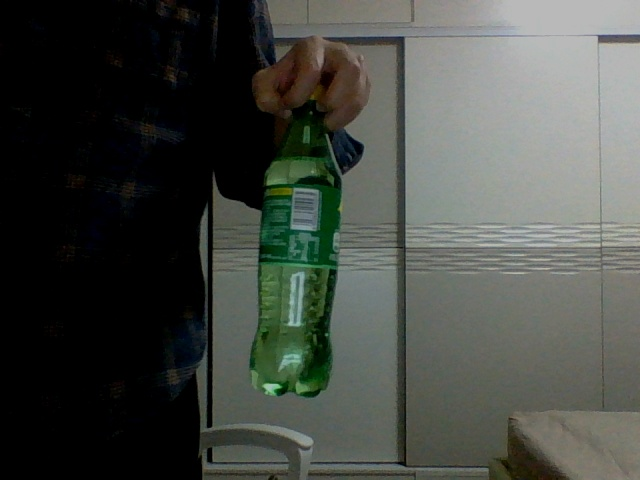Sprite: (249, 86, 343, 398)
